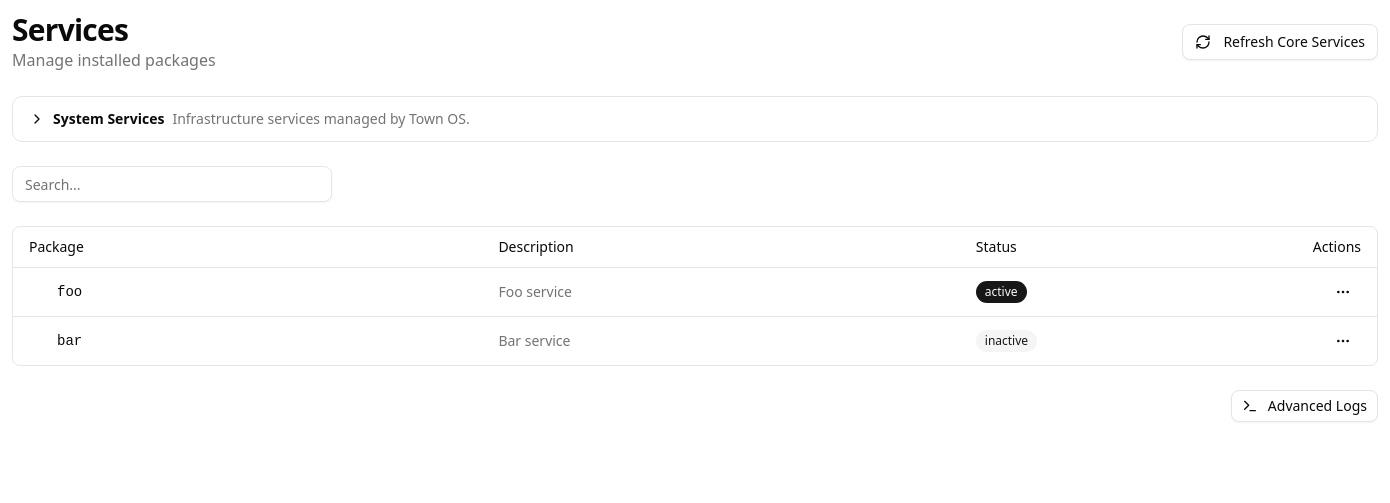
SystemManagement › renders action dropdown with correct menu items
This screenshot has width=1390, height=503.
Expected: the text "foo" is shown, [57,282,82,302]
Press the mouse on the button named "Service actions" in the row of "Foo service": x=1343, y=292 [1325,276,1361,308]
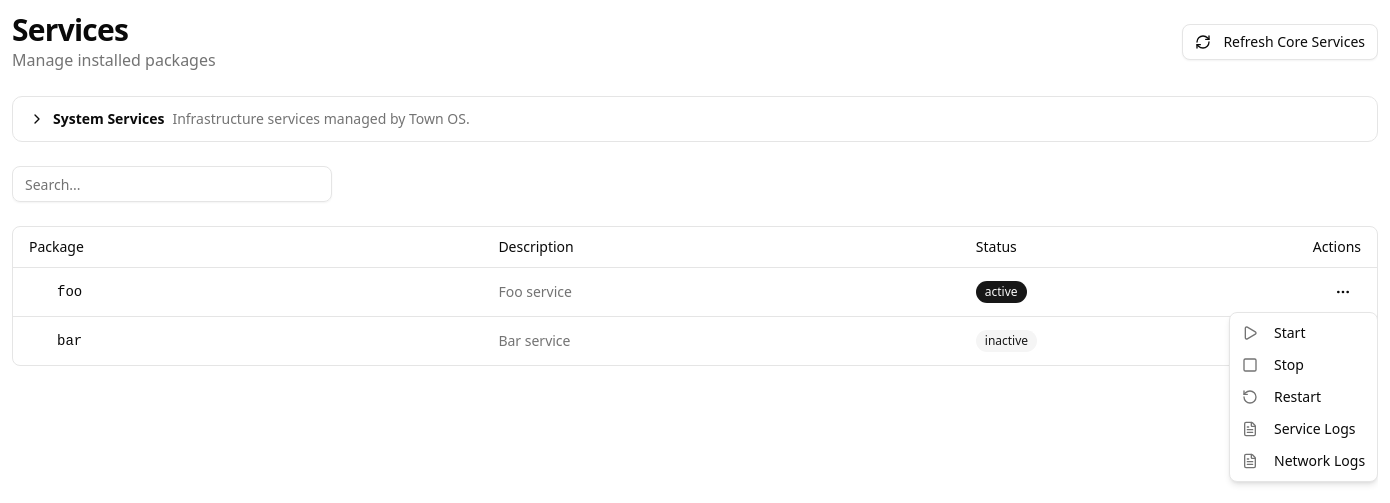
Now the menu item "Service Logs" is shown, box [1242,419,1356,438]
Now the menu item "Network Logs" is shown, box [1242,451,1365,470]
Now the menu item "Start" is shown, box [1242,323,1305,342]
